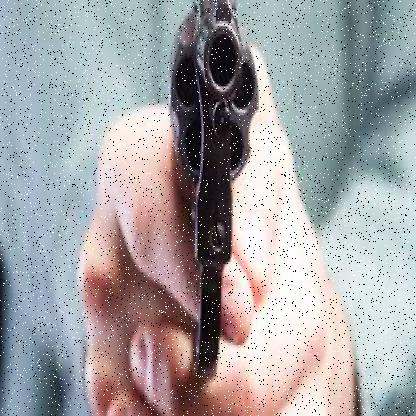pistol: (171, 3, 256, 377)
